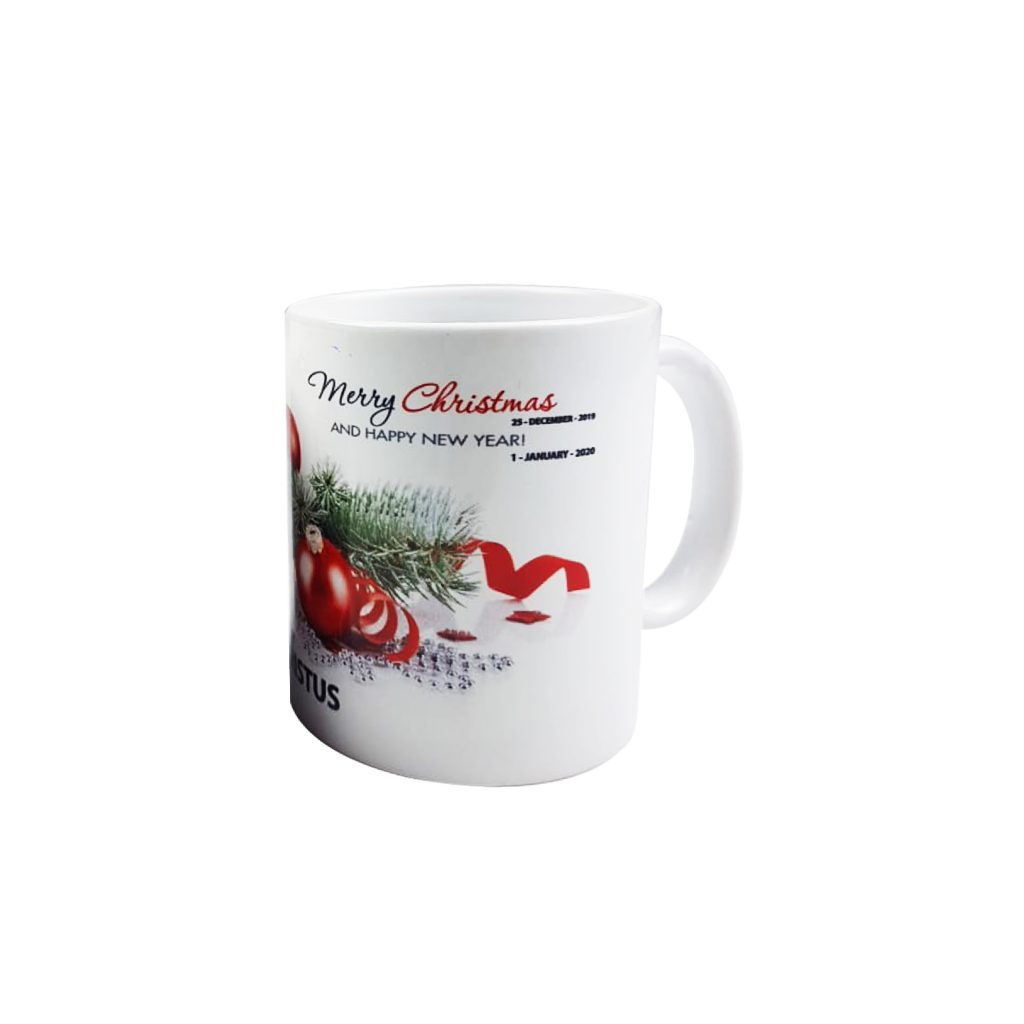gelas: (253, 278, 808, 788)
